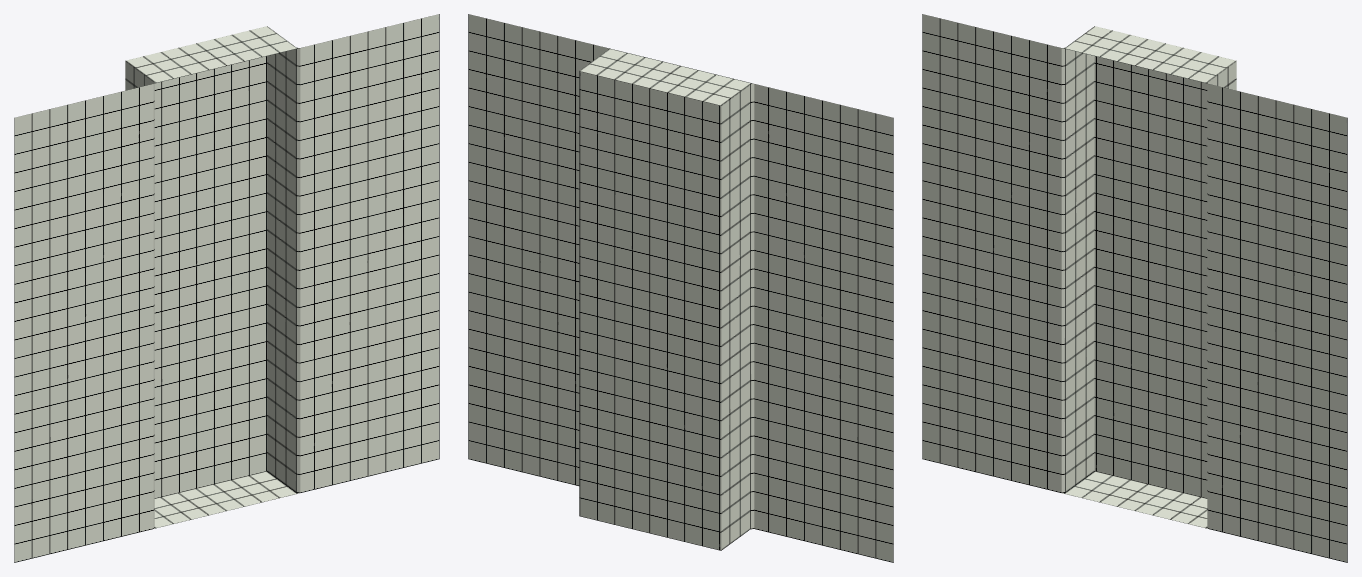
The model's file is Wall_wCubby.fbx.
The picture shows the model from 3 angles, left to right: view 1: azimuth 30°, elevation 25°; view 2: azimuth 150°, elevation 25°; view 3: azimuth 330°, elevation 25°; orthographic projection.
Parts seen in each view (by area): view 1: Wal_wCubby; view 2: Wal_wCubby; view 3: Wal_wCubby.
Boxes of the visible parts, x1=… form: Wal_wCubby: x1=14, y1=14, x2=439, y2=562; Wal_wCubby: x1=468, y1=14, x2=893, y2=562; Wal_wCubby: x1=922, y1=14, x2=1347, y2=562.
Bounding box in the file's own units: 400 × 400 × 50.
